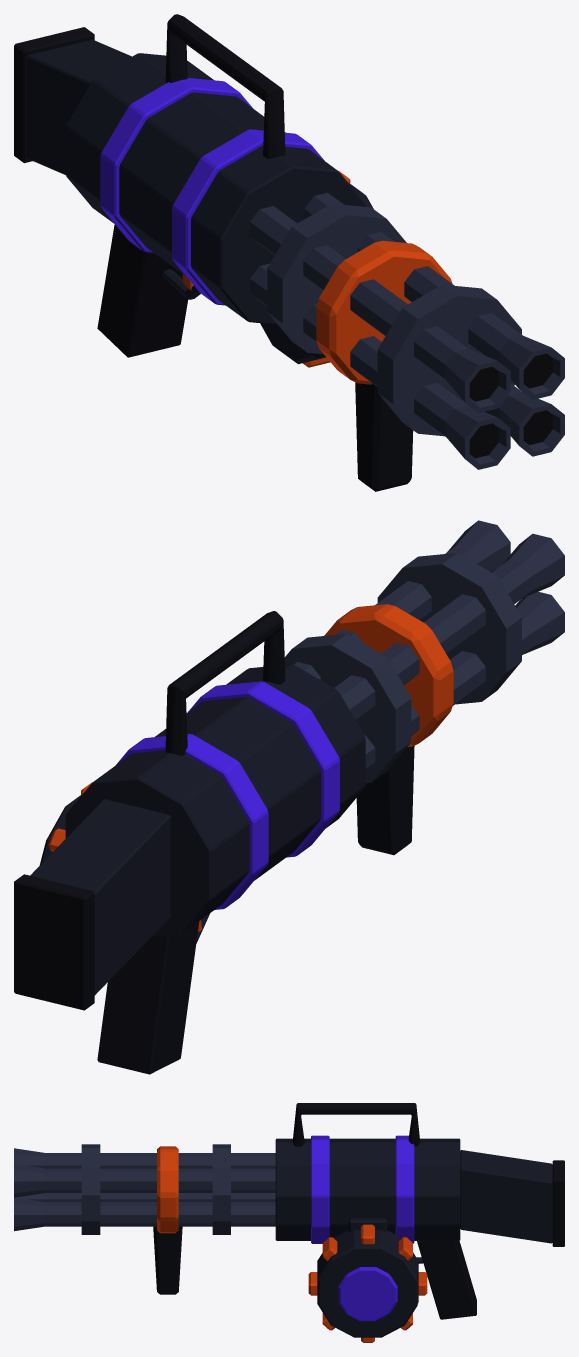
The model's file is myw_gatlingshotgun.obj.
The picture shows the model from 3 angles, top to bottom: view 1: azimuth 30°, elevation 25°; view 2: azimuth 150°, elevation 25°; view 3: azimuth 270°, elevation 25°; orthographic projection. The views are drawn at different scales.
Visible parts, largest first — view 1: Body, Barrels, Grip, Drum; view 2: Body, Barrels, Grip, Drum; view 3: Body, Barrels, Drum, Grip.
Part boxes in pixels (x1=…): Body: x1=14, y1=14, x2=365, y2=357; Barrels: x1=250, y1=192, x2=564, y2=469; Grip: x1=316, y1=240, x2=452, y2=491; Drum: x1=260, y1=171, x2=373, y2=367; Body: x1=14, y1=611, x2=365, y2=1074; Barrels: x1=284, y1=520, x2=564, y2=783; Grip: x1=324, y1=604, x2=453, y2=855; Drum: x1=39, y1=782, x2=92, y2=865; Body: x1=275, y1=1103, x2=564, y2=1319; Barrels: x1=14, y1=1144, x2=275, y2=1234; Drum: x1=308, y1=1218, x2=427, y2=1342; Grip: x1=153, y1=1146, x2=182, y2=1294.
Bounding box in the file's own units: 1 × 1.5 × 3.58.
